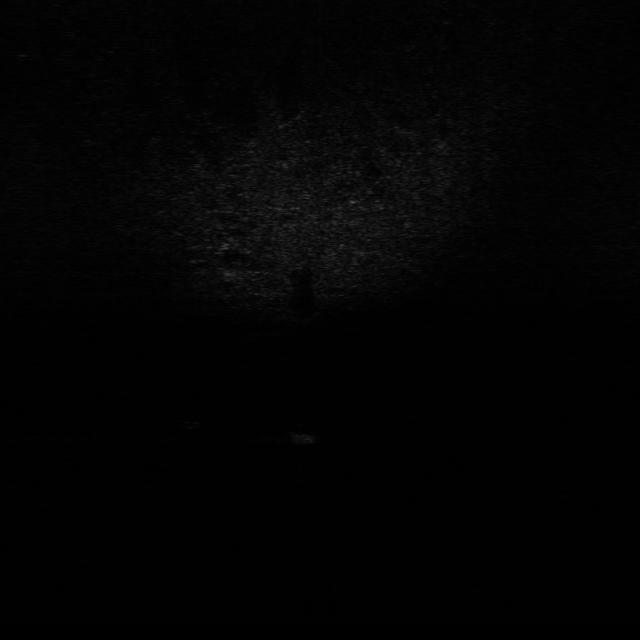ball: (173, 407, 211, 429)
cube: (281, 426, 318, 445)
